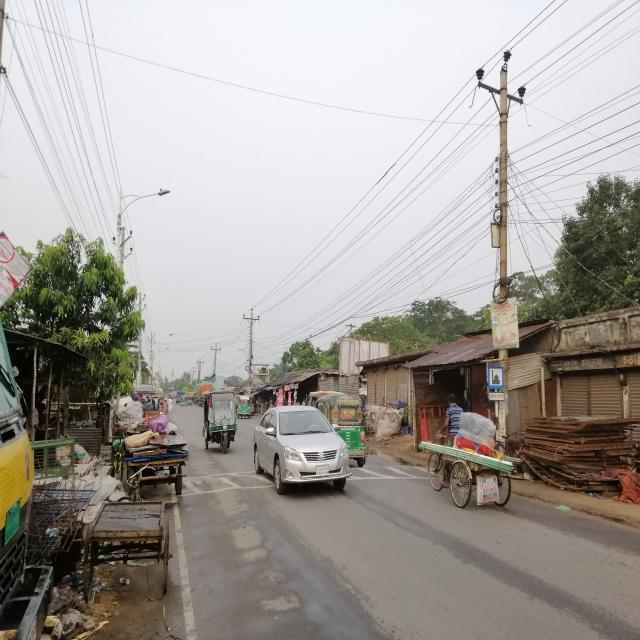Car: (250, 404, 355, 496)
Easybike: (201, 389, 242, 455)
